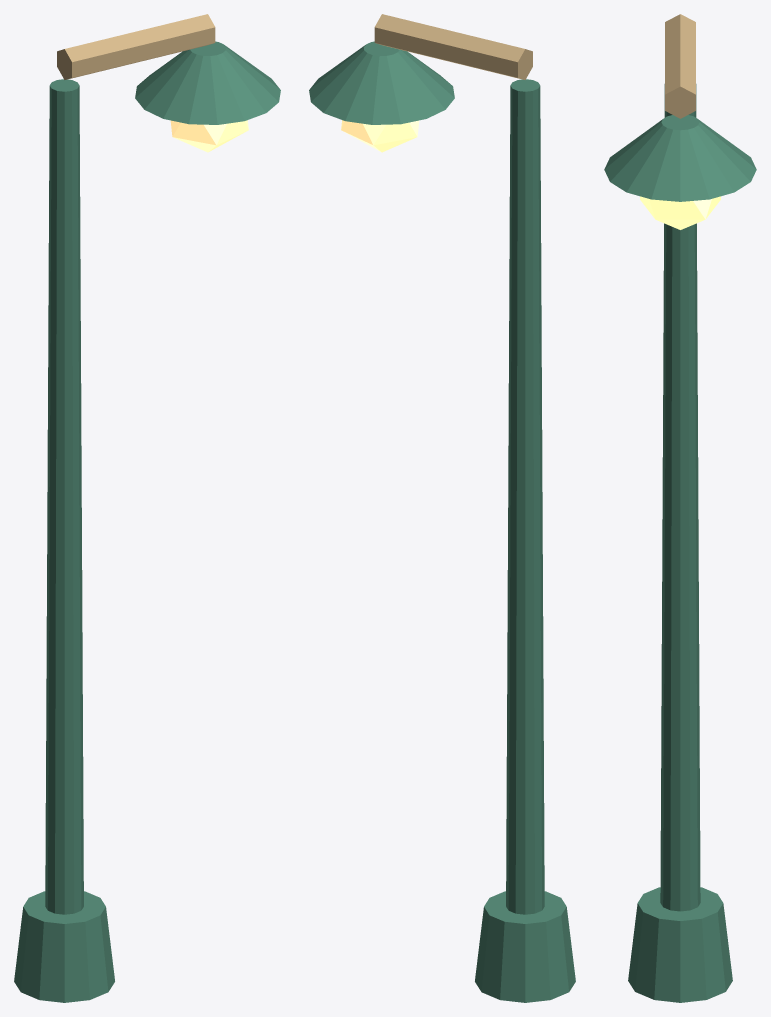
Rendered from tpe5_heritage_lamp.glb.
3 views of the same model, side by side, from view 1: azimuth 30°, elevation 25°; view 2: azimuth 150°, elevation 25°; view 3: azimuth 270°, elevation 25° (orthographic). The views are drawn at different scales.
Parts seen in each view (by area): view 1: tpe5_heritage_lamp__tpe5-street-jade, tpe5_heritage_lamp__tpe5-street-brass, tpe5_heritage_lamp__tpe5-emissive-street-warm; view 2: tpe5_heritage_lamp__tpe5-street-jade, tpe5_heritage_lamp__tpe5-street-brass, tpe5_heritage_lamp__tpe5-emissive-street-warm; view 3: tpe5_heritage_lamp__tpe5-street-jade, tpe5_heritage_lamp__tpe5-street-brass, tpe5_heritage_lamp__tpe5-emissive-street-warm.
Part boxes in pixels (x1=…): tpe5_heritage_lamp__tpe5-street-jade: x1=14, y1=41, x2=280, y2=1002; tpe5_heritage_lamp__tpe5-street-brass: x1=57, y1=14, x2=215, y2=79; tpe5_heritage_lamp__tpe5-emissive-street-warm: x1=170, y1=120, x2=248, y2=152; tpe5_heritage_lamp__tpe5-street-jade: x1=309, y1=41, x2=575, y2=1002; tpe5_heritage_lamp__tpe5-street-brass: x1=374, y1=14, x2=532, y2=79; tpe5_heritage_lamp__tpe5-emissive-street-warm: x1=341, y1=120, x2=419, y2=152; tpe5_heritage_lamp__tpe5-street-jade: x1=604, y1=84, x2=756, y2=1002; tpe5_heritage_lamp__tpe5-street-brass: x1=665, y1=14, x2=695, y2=118; tpe5_heritage_lamp__tpe5-emissive-street-warm: x1=640, y1=196, x2=720, y2=229.
Bounding box in the file's own units: 1.26 × 4.47 × 0.64.
